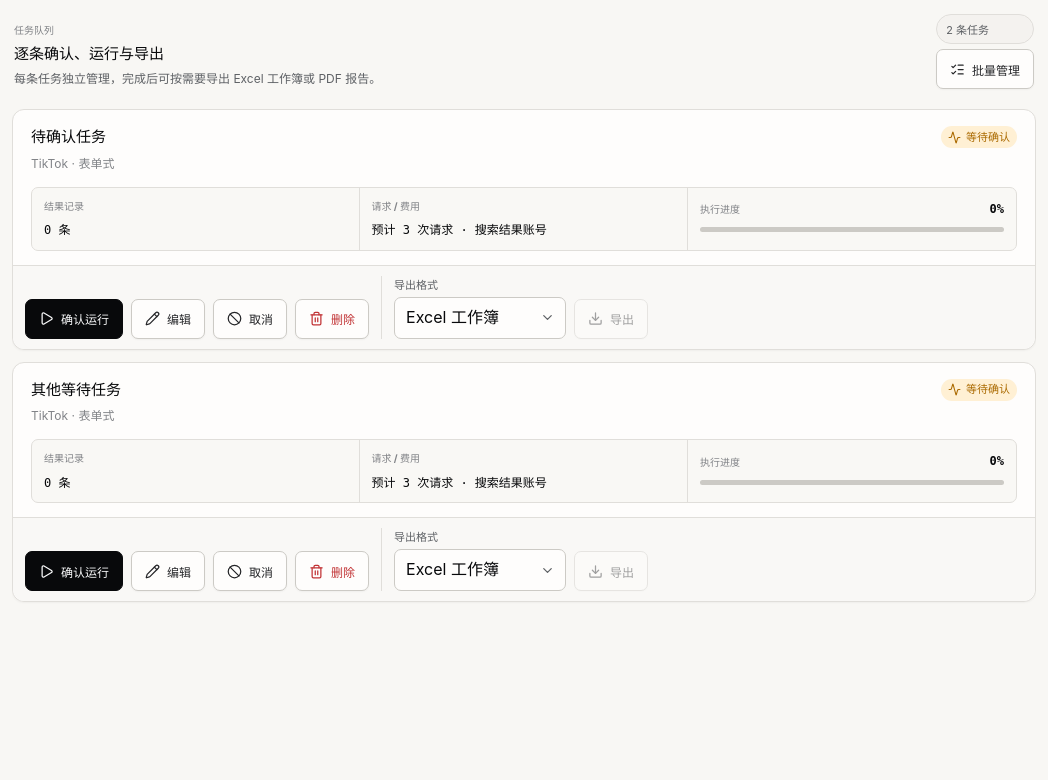
Scenario: TaskQueue › 确认运行成功后进入该任务独立预览，并可返回完整任务列表
Click the button "确认运行" below "待确认任务": (74,318) [25,298,123,338]
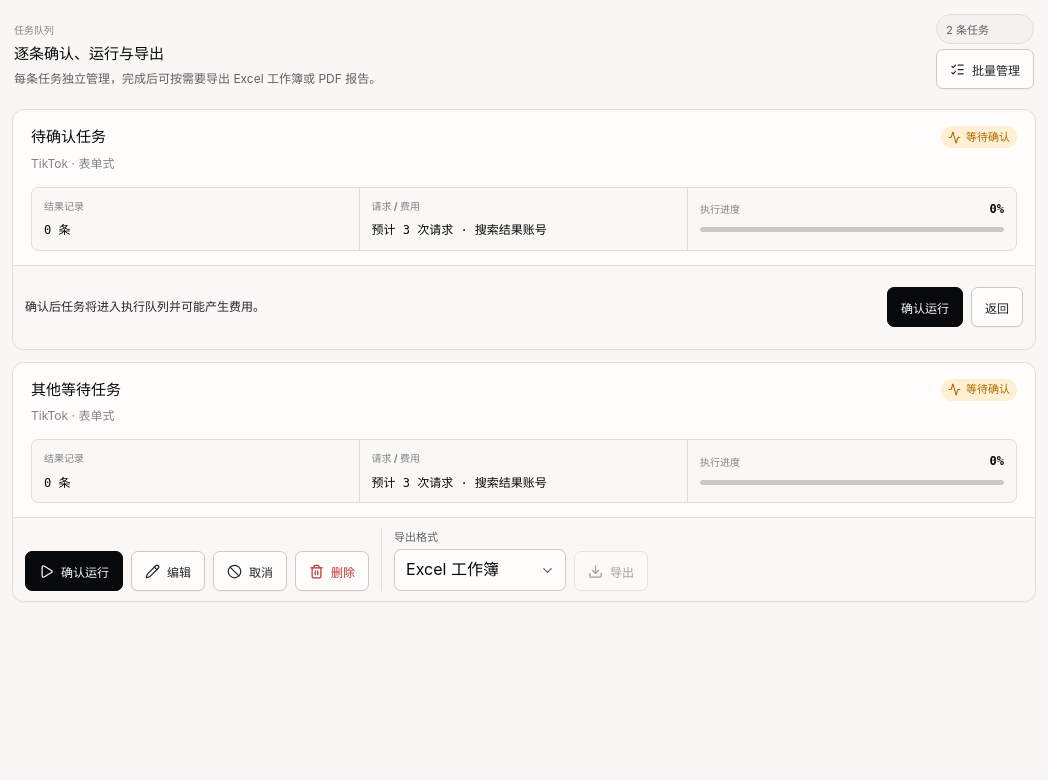
Click the button "确认运行" in the row of "确认后任务将进入执行队列并可能产生费用。": (925,307) [887,287,963,327]
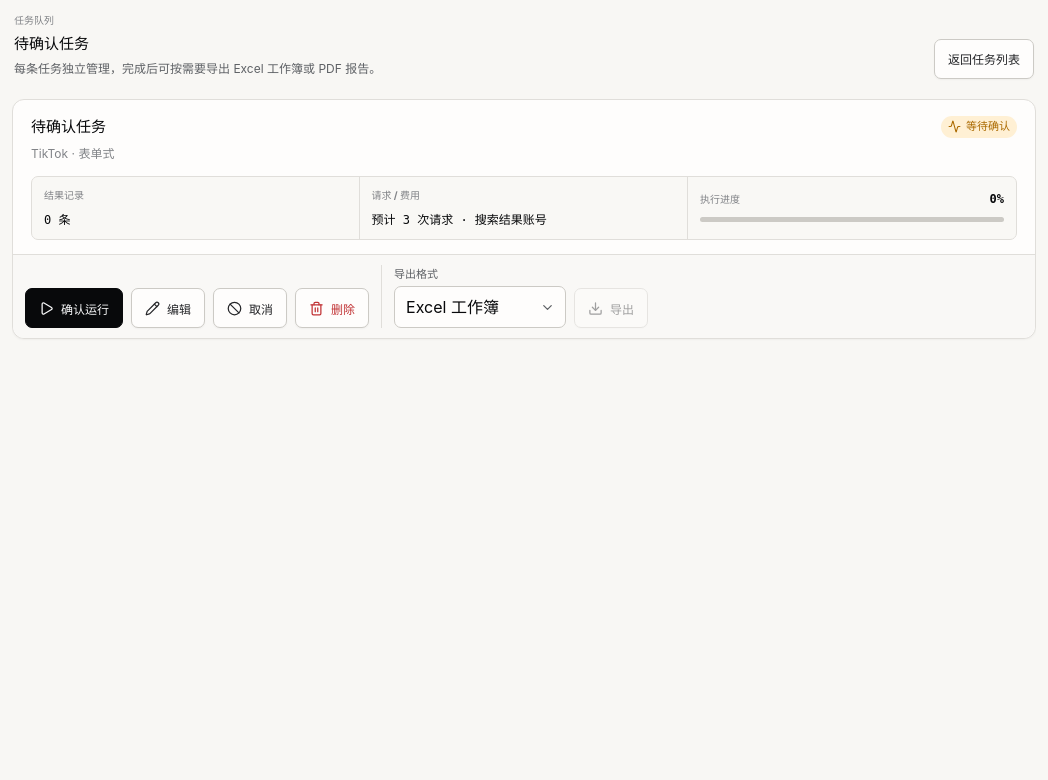
Expected: the text "待确认任务" is shown, [14,34,89,53]
Expected: the text "其他等待任务" is gone
Expected: the button "返回任务列表" is shown
Click the button "返回任务列表": (984,59) [934,39,1034,79]
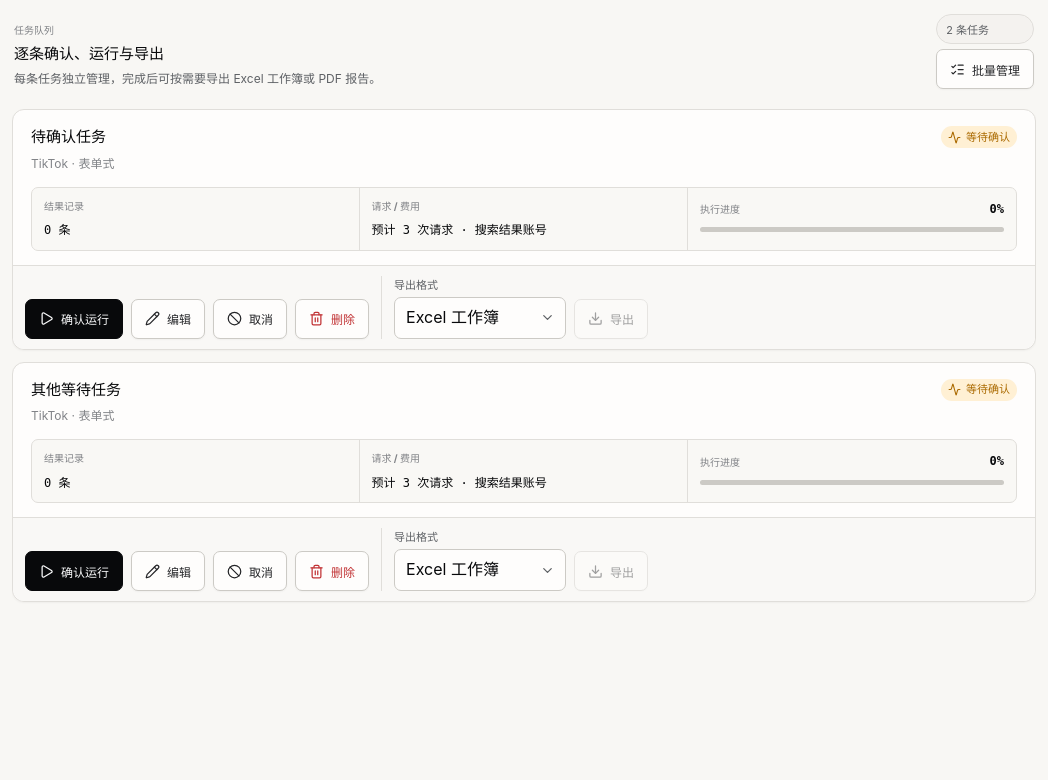
Expected: the text "待确认任务" is shown, [31,127,106,146]
Expected: the text "其他等待任务" is shown, [31,380,121,398]
